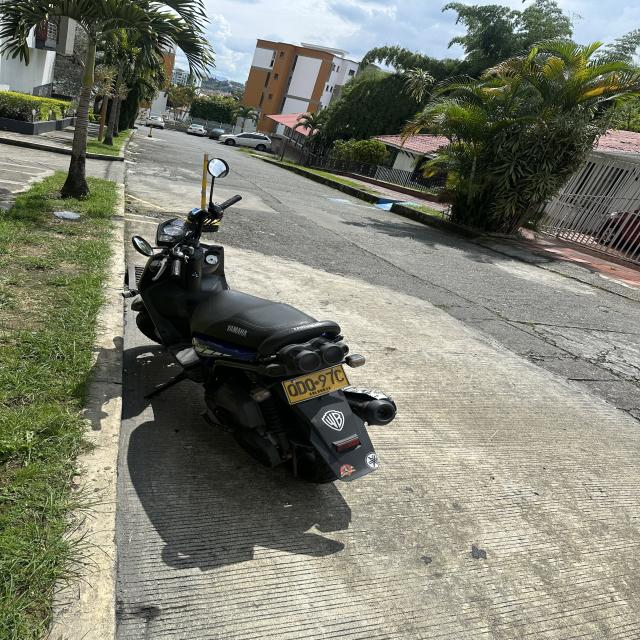number plate: (282, 365, 349, 404)
